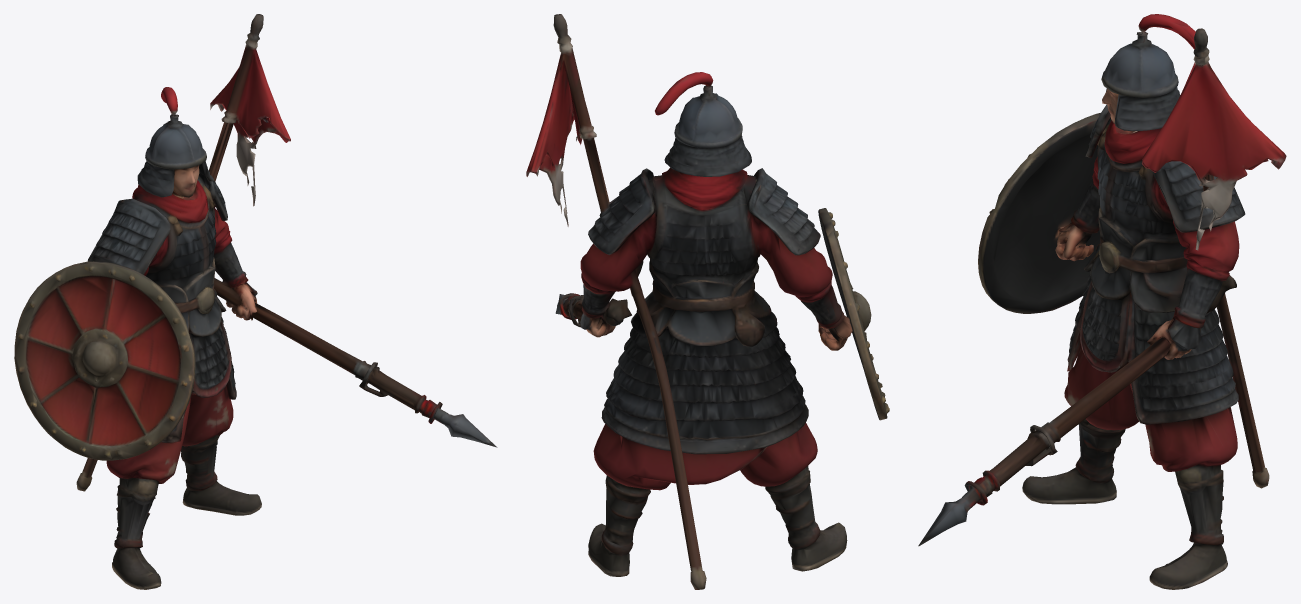
Rendered from pawn-infantry-red-hy3-v1.glb.
3 views of the same model, side by side, from view 1: azimuth 30°, elevation 25°; view 2: azimuth 150°, elevation 25°; view 3: azimuth 270°, elevation 25° (orthographic). The views are drawn at different scales.
Visible parts, largest first — view 1: node_0; view 2: node_0; view 3: node_0.
Boxes of the visible parts, <box> form: node_0: <box>14,14,497,589</box>; node_0: <box>526,14,889,589</box>; node_0: <box>918,14,1286,589</box>.
Size of the model in its own units: 1.44 by 1.72 by 1.
Materials: 1 (1 with a texture image).
